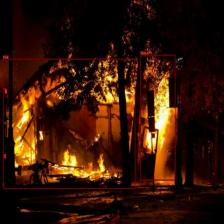fire: (3, 58, 135, 188), (140, 54, 176, 180)
